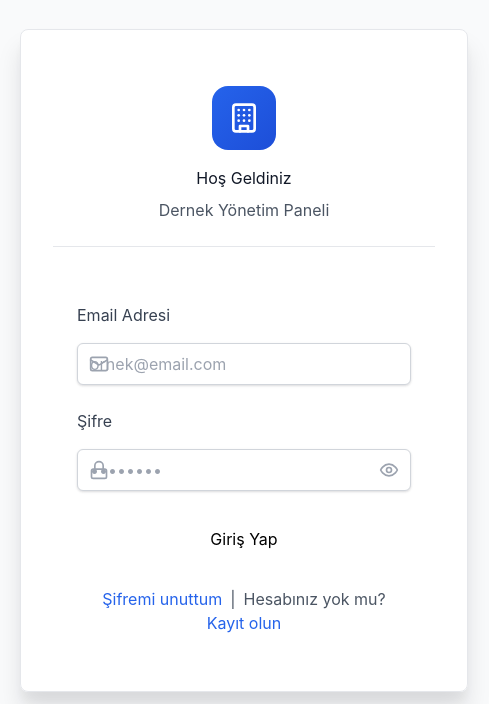
Login Component › validates register form
The image size is (489, 704).
// Switch to register mode
Click the button "Kayıt olun". click: x=244, y=622
box: [207, 610, 281, 634]
(page scrolled)
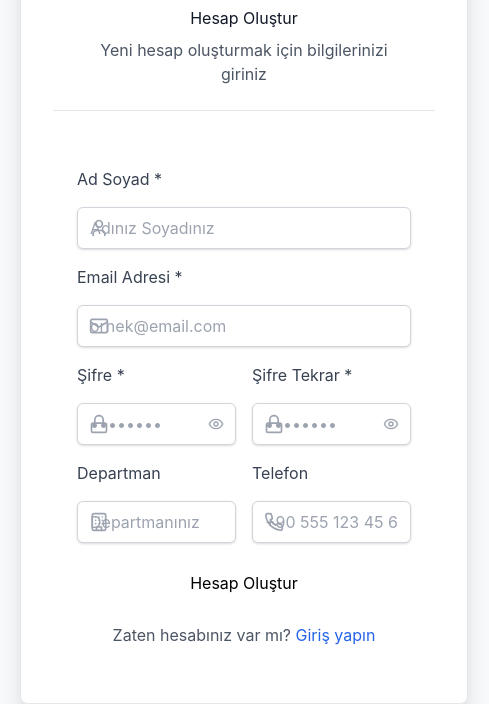
Click the button "Hesap Oluştur". click: x=244, y=583
box: [77, 559, 411, 607]
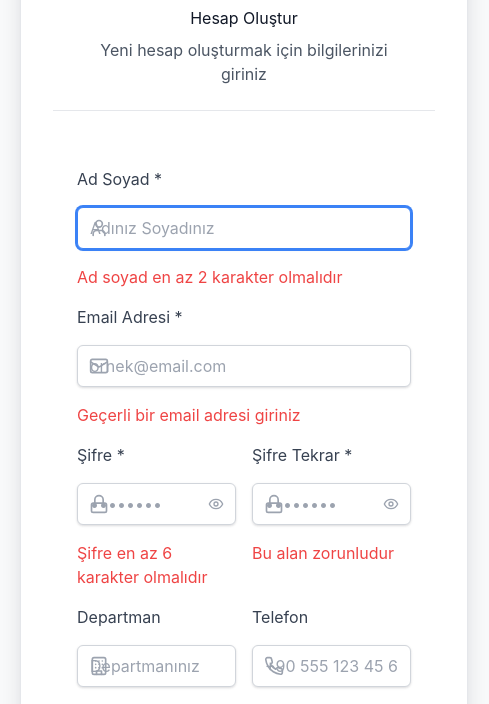
Expected: the text "Geçerli bir email adresi giriniz" is shown, [77, 405, 301, 425]
Expected: the text "Ad soyad en az 2 karakter olmalıdır" is shown, [77, 267, 342, 287]
